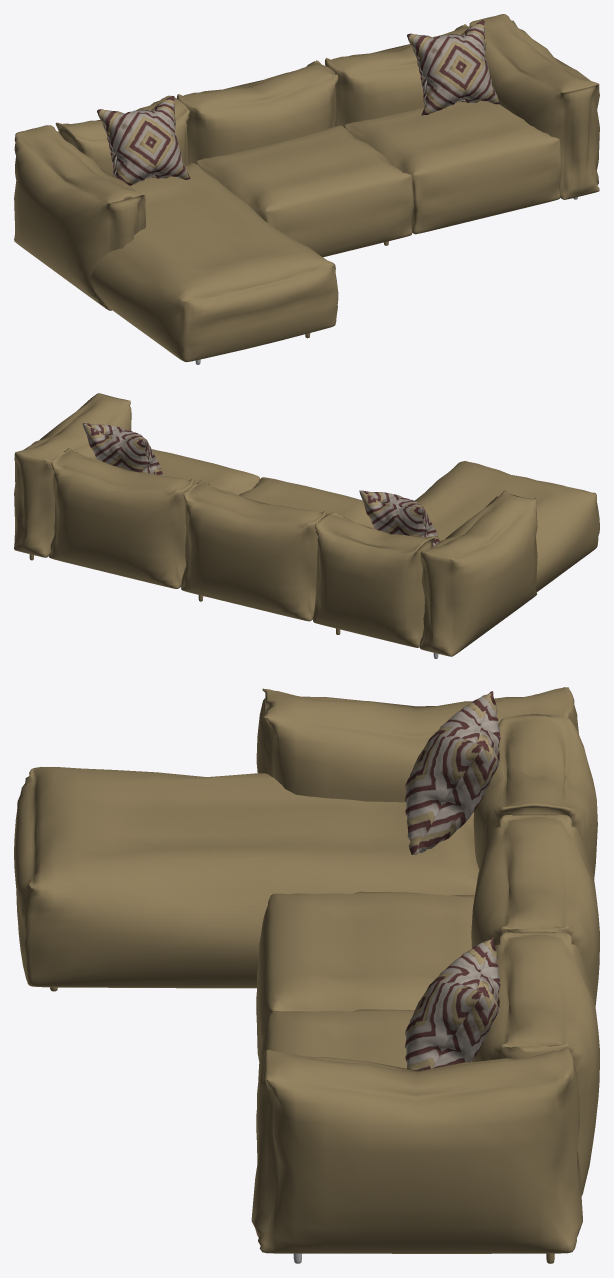
File: corner_sofa.glb
3 views of the same model, one above another, from view 1: azimuth 30°, elevation 25°; view 2: azimuth 150°, elevation 25°; view 3: azimuth 270°, elevation 25° (orthographic). The views are drawn at different scales.
Parts seen in each view (by area): view 1: Corner sofa; view 2: Corner sofa; view 3: Corner sofa.
Boxes of the visible parts, bbox=[...] form: Corner sofa: bbox=[14, 14, 599, 364]; Corner sofa: bbox=[14, 393, 599, 658]; Corner sofa: bbox=[14, 687, 599, 1263].
Bounding box in the file's own units: 3.14 × 0.838 × 1.85.
Materials: 1 (1 with a texture image).
